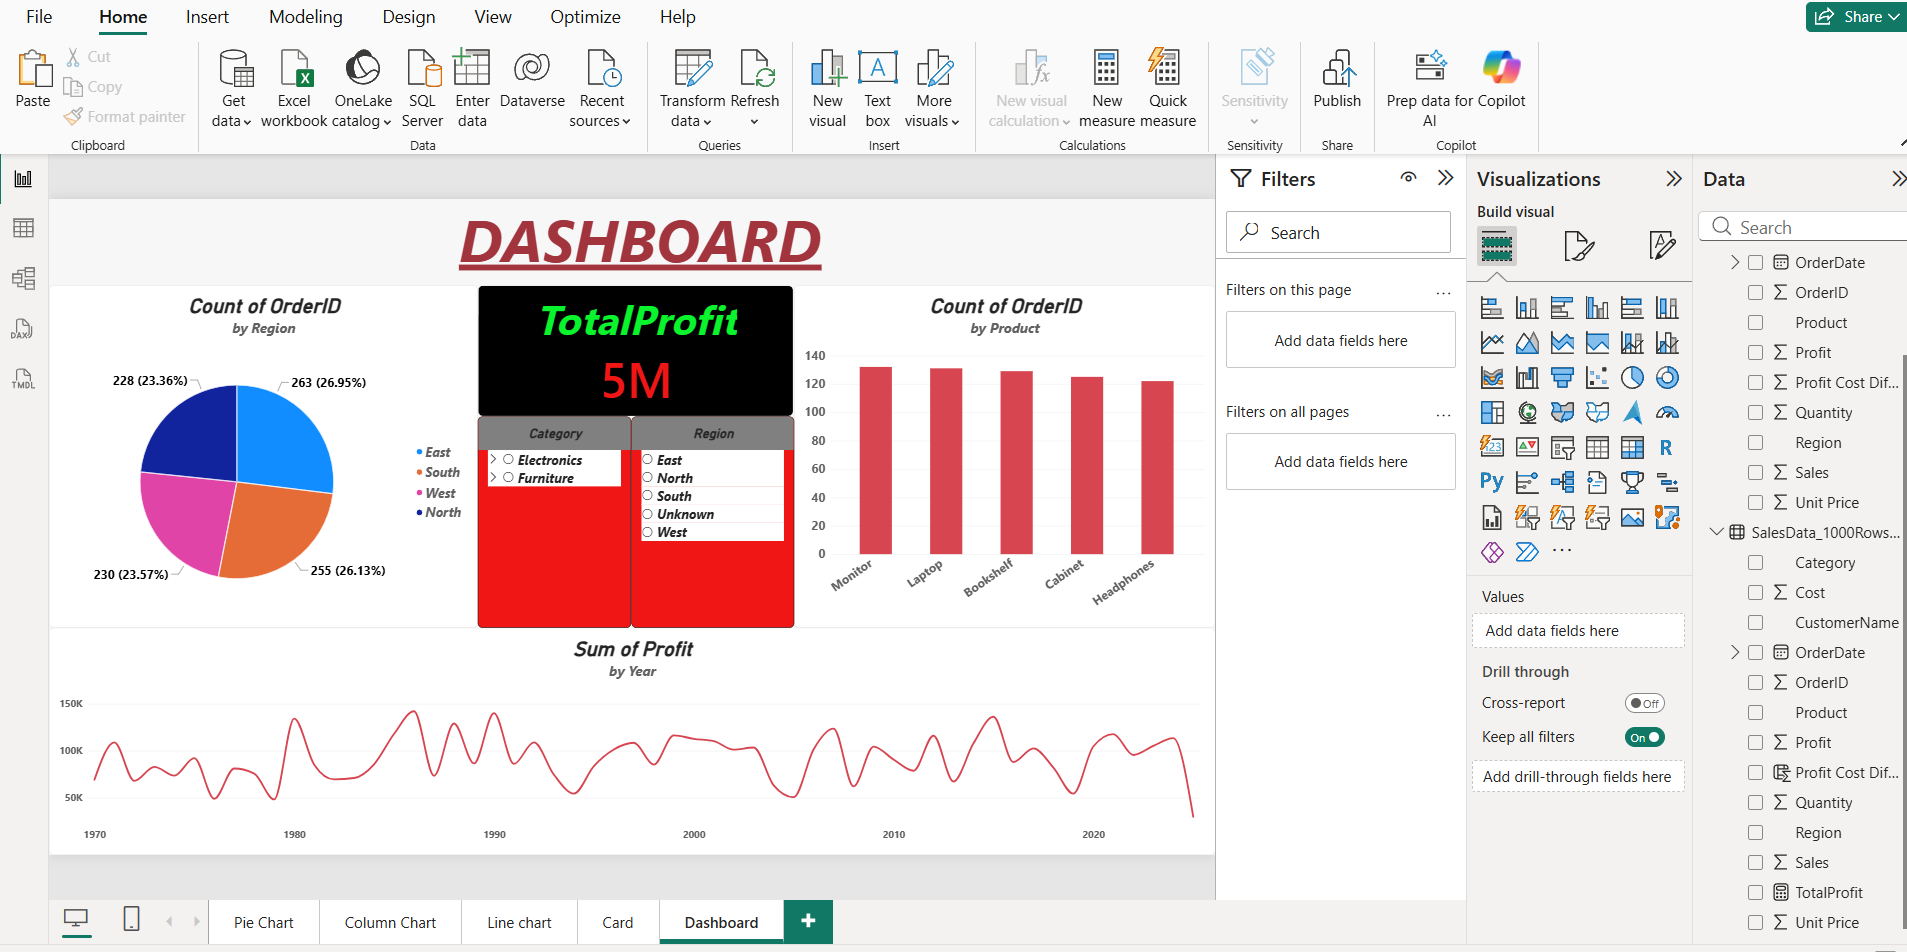

The page's visual inventory and layout, read from the dashboard file:
{"tool":"powerbi","page":{"name":"Dashboard","canvas":[1920,1080],"ordinal":4},"visuals":[{"type":"pieChart","fields":{"Category":["SalesData_1000Rows_WithIssues_copy.Region"],"Y":["CountNonNull(SalesData_1000Rows_WithIssues_copy.OrderID)"]},"box":[0,142,706,564],"z":0},{"type":"cardVisual","fields":{"Data":["SalesData_1000Rows_WithIssues_copy.TotalProfit"]},"box":[706,142,520.8,216.1],"z":1},{"type":"clusteredColumnChart","fields":{"Category":["SalesData_1000Rows_WithIssues_copy.Product"],"Y":["CountNonNull(SalesData_1000Rows_WithIssues_copy.OrderID)"]},"box":[1226.8,142,693.7,564],"z":2},{"type":"lineChart","fields":{"Category":["SalesData_1000Rows_WithIssues_copy.OrderDate.Variation.Date Hierarchy.Year","SalesData_1000Rows_WithIssues_copy.OrderDate.Variation.Date Hierarchy.Quarter","SalesData_1000Rows_WithIssues_copy.OrderDate.Variation.Date Hierarchy.Month","SalesData_1000Rows_WithIssues_copy.OrderDate.Variation.Date Hierarchy.Day"],"Y":["Sum(SalesData_1000Rows_WithIssues_copy.Profit)"]},"box":[0,706,1920.4,374.6],"z":3},{"type":"textbox","box":[298.5,0,1350.3,142],"z":4},{"type":"listSlicer","fields":{"Values":["SalesData_1000Rows_WithIssues_copy.Category","SalesData_1000Rows_WithIssues_copy.Product"]},"box":[706,358.1,253.2,347.9],"z":5},{"type":"listSlicer","fields":{"Values":["SalesData_1000Rows_WithIssues_copy.Region"]},"box":[959,358,268,348],"z":6}]}

Visuals, with their boxes on the page's 1920x1080 design canvas (x1, y1, x2, y2). These are canvas units, not pixel positions in the 1907x952 screenshot, which may show the page scaled, cropped or inside an application window:
pieChart - SalesData_1000Rows_WithIssues_copy.Region x CountNonNull(SalesData_1000Rows_WithIssues_copy.OrderID): (0,142,706,706)
cardVisual - SalesData_1000Rows_WithIssues_copy.TotalProfit: (706,142,1227,358)
clusteredColumnChart - SalesData_1000Rows_WithIssues_copy.Product x CountNonNull(SalesData_1000Rows_WithIssues_copy.OrderID): (1227,142,1920,706)
lineChart - SalesData_1000Rows_WithIssues_copy.OrderDate.Variation.Date Hierarchy.Year x SalesData_1000Rows_WithIssues_copy.OrderDate.Variation.Date Hierarchy.Quarter: (0,706,1920,1081)
textbox: (298,0,1649,142)
listSlicer - SalesData_1000Rows_WithIssues_copy.Category x SalesData_1000Rows_WithIssues_copy.Product: (706,358,959,706)
listSlicer - SalesData_1000Rows_WithIssues_copy.Region: (959,358,1227,706)
